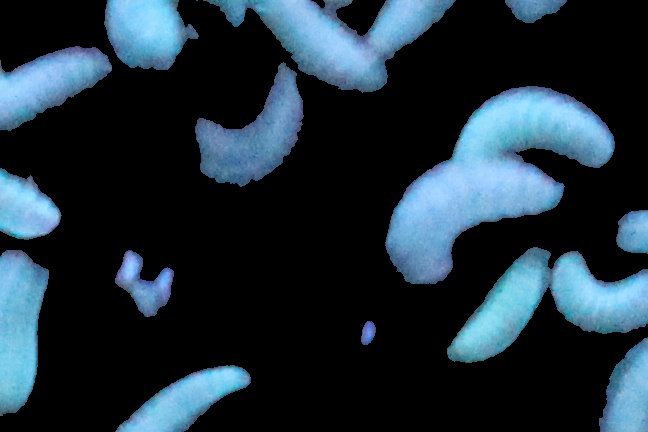larvae: (391, 158, 566, 287), (435, 239, 562, 362), (458, 83, 622, 176), (252, 1, 393, 99), (197, 68, 308, 185), (1, 51, 118, 130), (117, 366, 254, 432), (1, 245, 51, 422), (108, 1, 201, 83), (554, 254, 648, 335), (1, 130, 64, 237), (362, 1, 456, 54), (595, 340, 648, 432)
